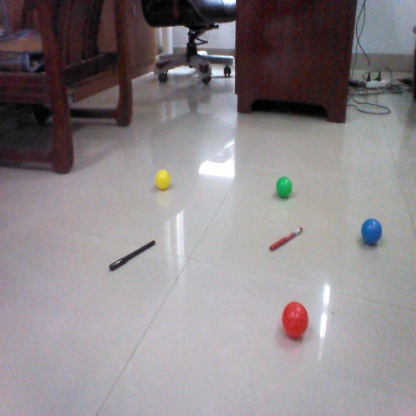ball: (279, 299, 313, 339), (360, 219, 379, 246), (153, 169, 175, 187), (274, 176, 293, 196)
pen: (110, 238, 156, 271), (271, 224, 304, 250)
